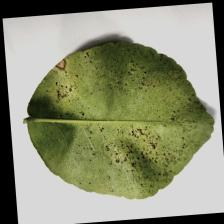canker: (54, 54, 176, 188)
